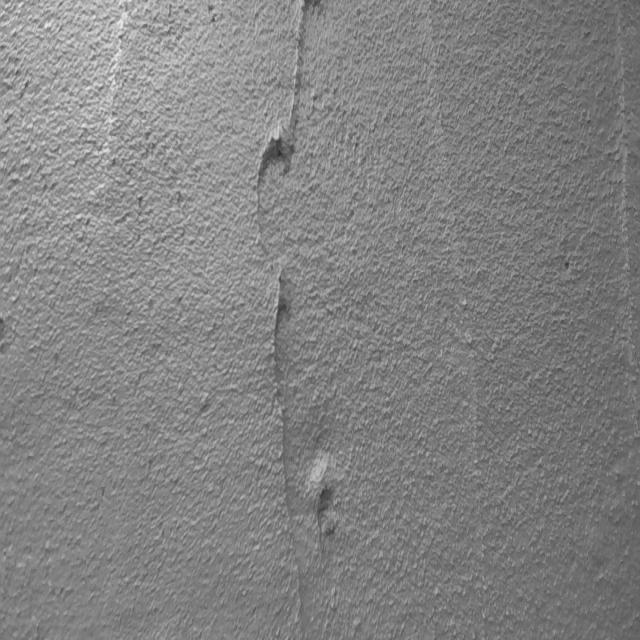trowels marks: (253, 0, 321, 640), (309, 452, 348, 536)
